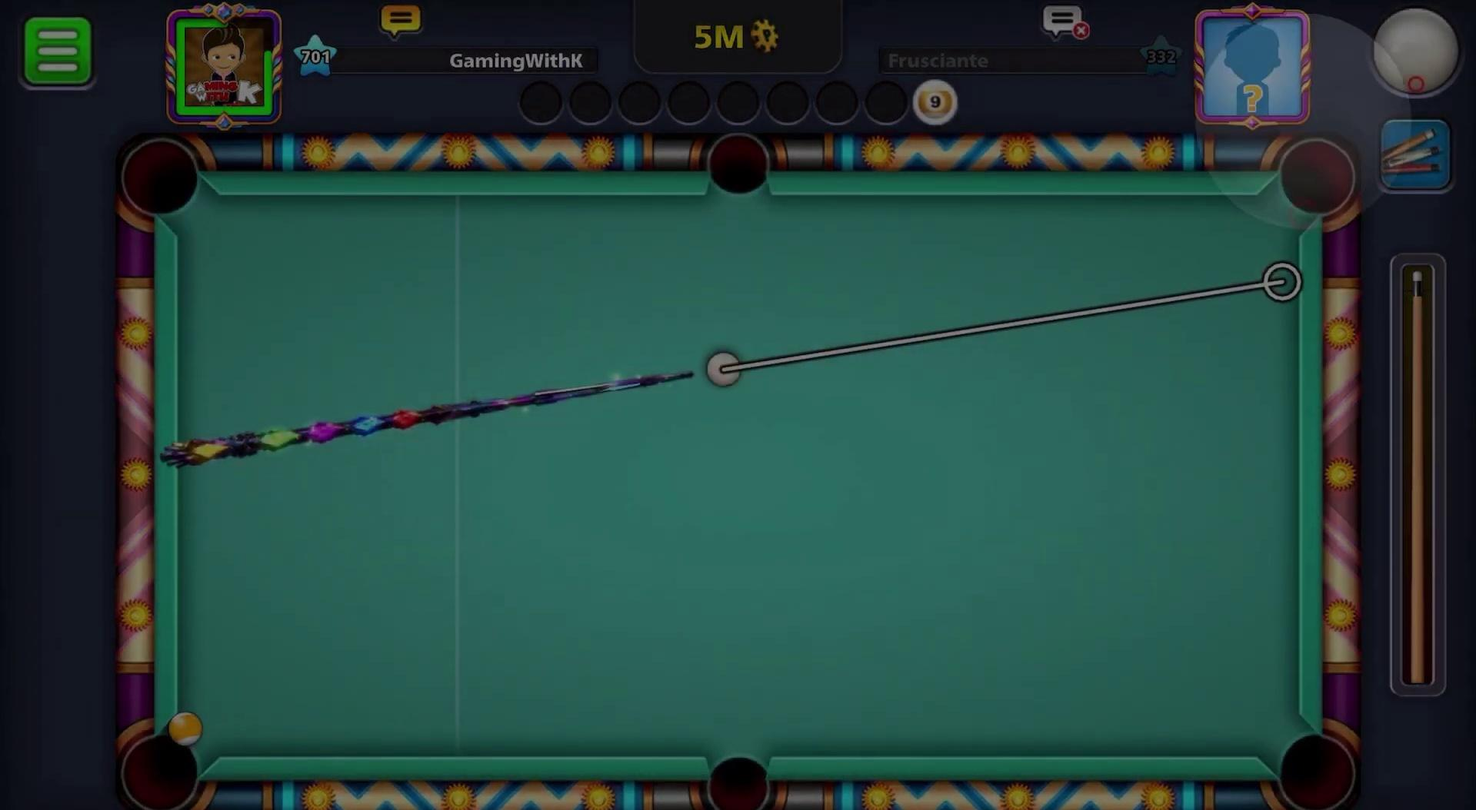Force: (1388, 251, 1451, 709)
Guideline: (706, 261, 1304, 385)
Hole: (106, 127, 218, 231), (1262, 124, 1369, 232), (109, 709, 215, 809), (1264, 715, 1364, 809), (683, 735, 790, 809), (692, 129, 784, 207)
Play_Area: (173, 193, 1314, 762)
Spin: (1347, 1, 1475, 116)
White: (697, 347, 746, 393)
